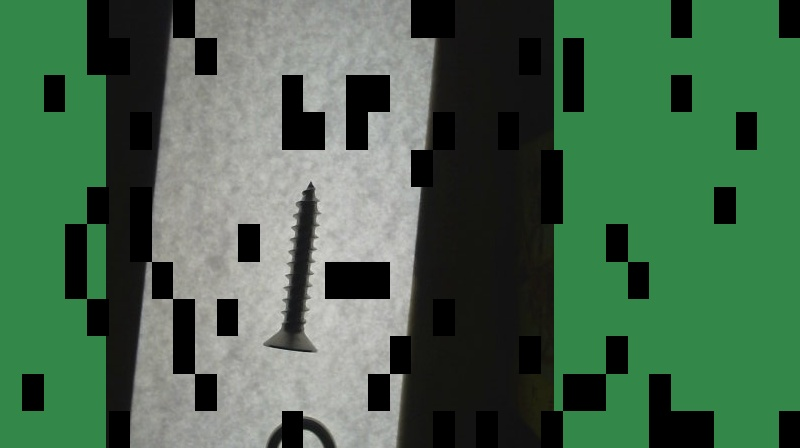O001: (248, 411, 340, 447)
S001: (260, 175, 326, 356)
